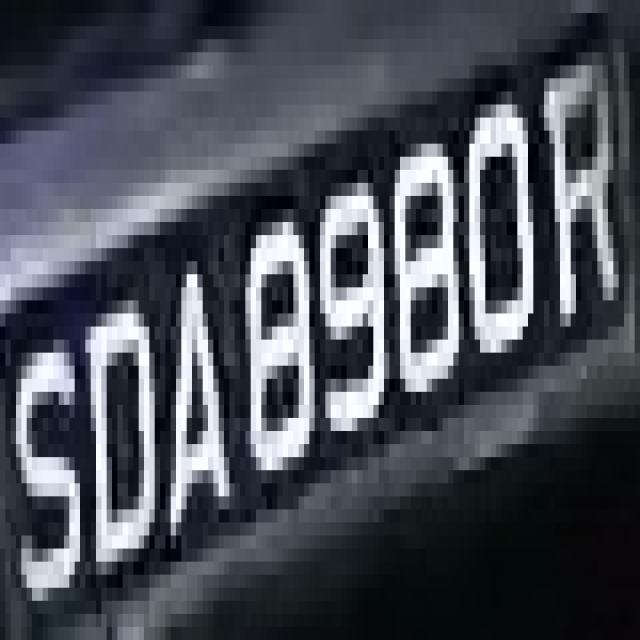0: (458, 78, 538, 379)
8: (384, 157, 475, 470), (234, 196, 314, 509)
9: (304, 131, 395, 470)
A: (149, 235, 240, 549)
D: (85, 274, 171, 536)
R: (539, 26, 624, 353)
S: (0, 6, 1, 13)
